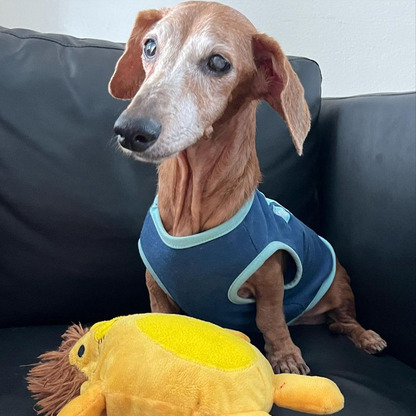dachshund: (95, 4, 384, 345)
